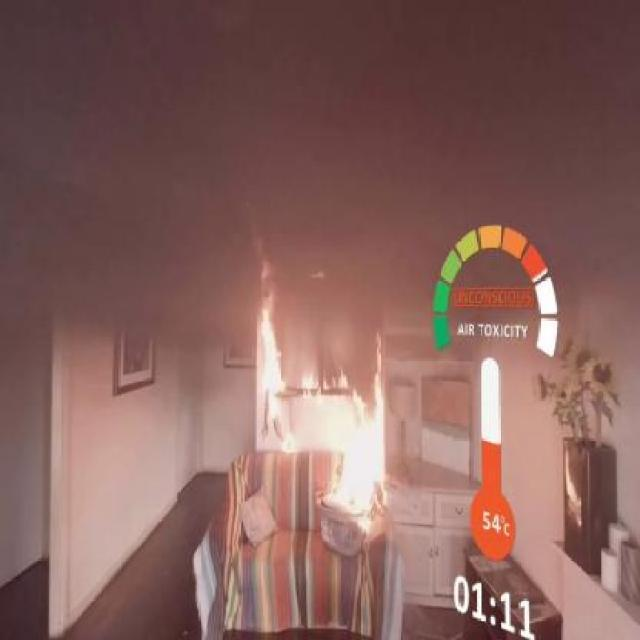fire: (226, 276, 308, 470), (327, 374, 405, 534)
smoke: (32, 4, 486, 290)
